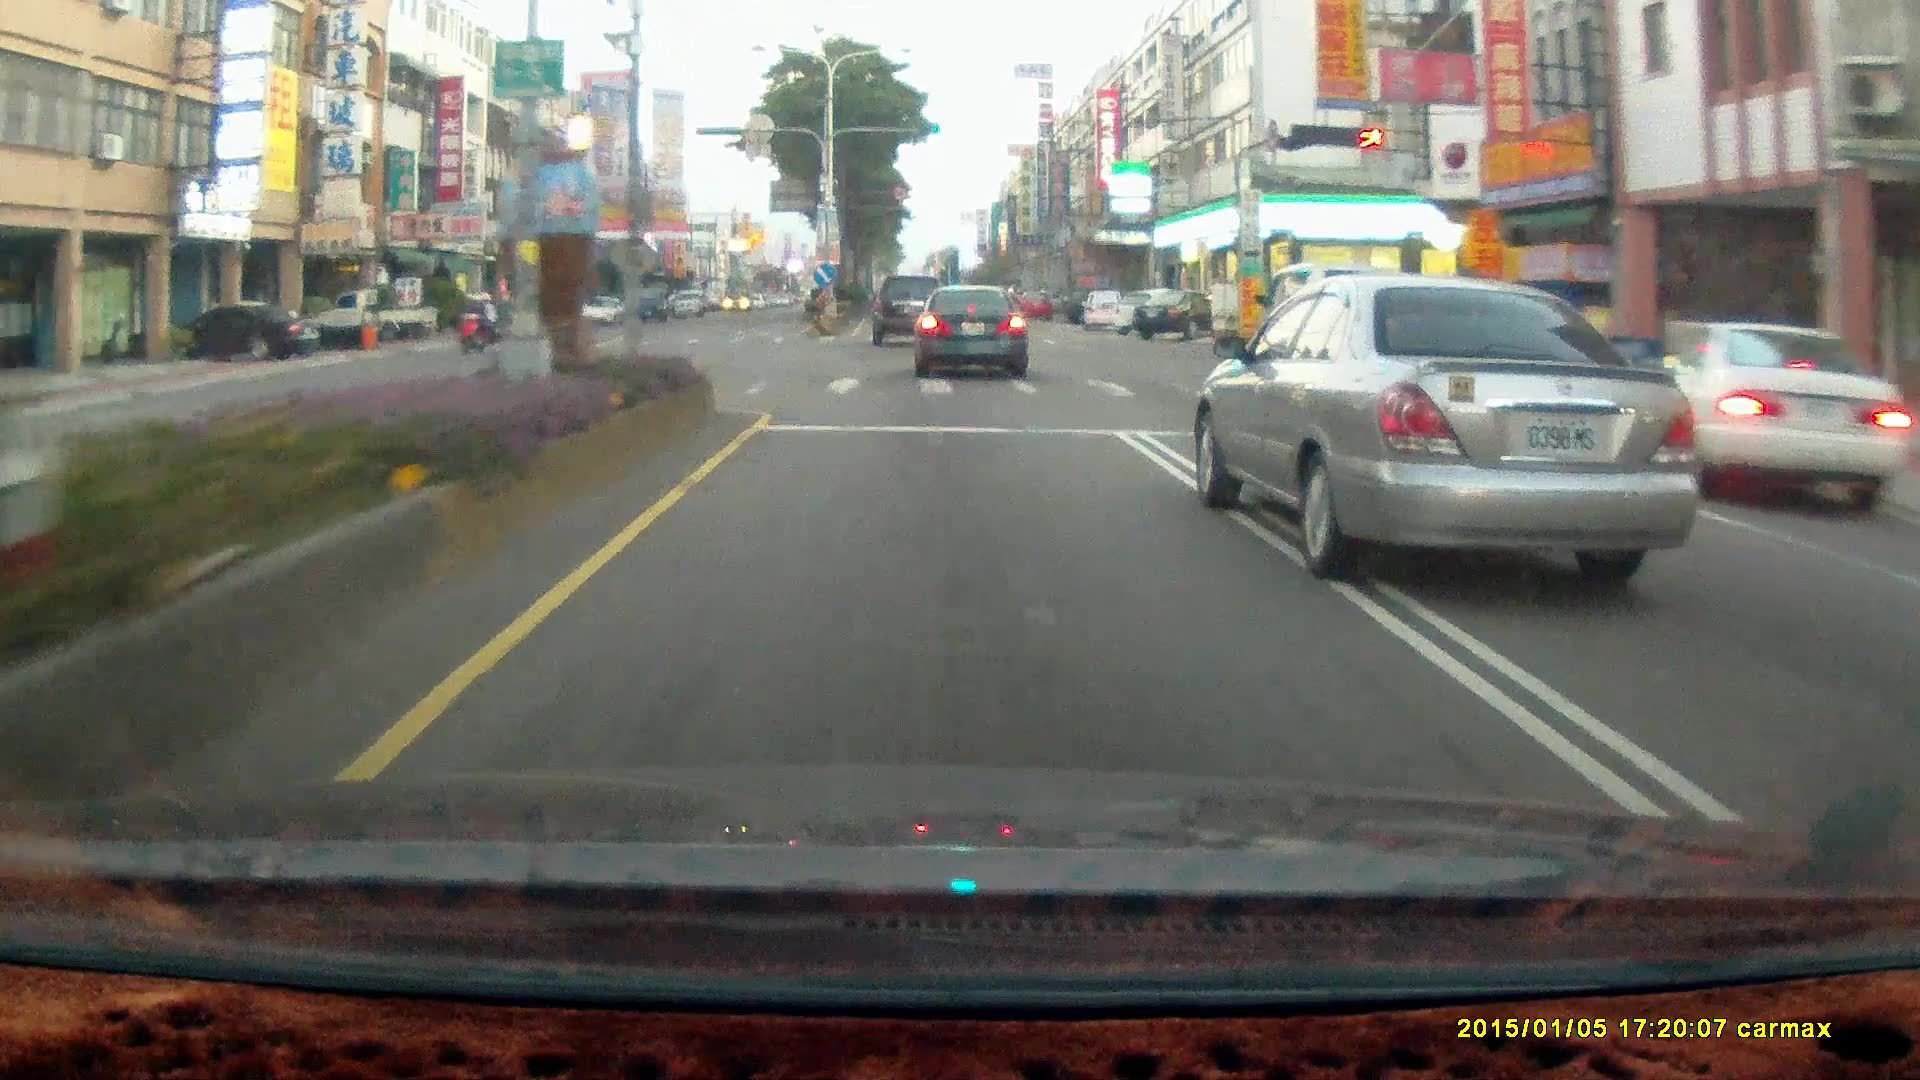rider: (460, 291, 498, 349)
vehicle: (1190, 270, 1702, 577), (1646, 325, 1918, 518), (1638, 321, 1909, 514), (1261, 264, 1441, 390), (914, 282, 1031, 381), (913, 281, 1027, 377), (152, 302, 315, 359), (193, 302, 321, 363), (320, 289, 441, 353), (307, 285, 436, 343), (873, 271, 958, 348), (874, 271, 950, 343), (1133, 283, 1226, 334), (1136, 287, 1211, 346), (1111, 289, 1171, 332), (1060, 283, 1114, 322), (1077, 286, 1126, 327), (581, 295, 624, 324), (1015, 286, 1050, 316), (635, 291, 665, 320), (668, 287, 700, 311)
